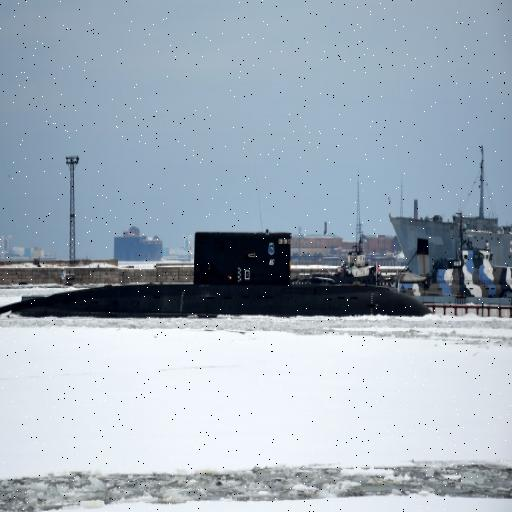submarine: (1, 221, 446, 317)
